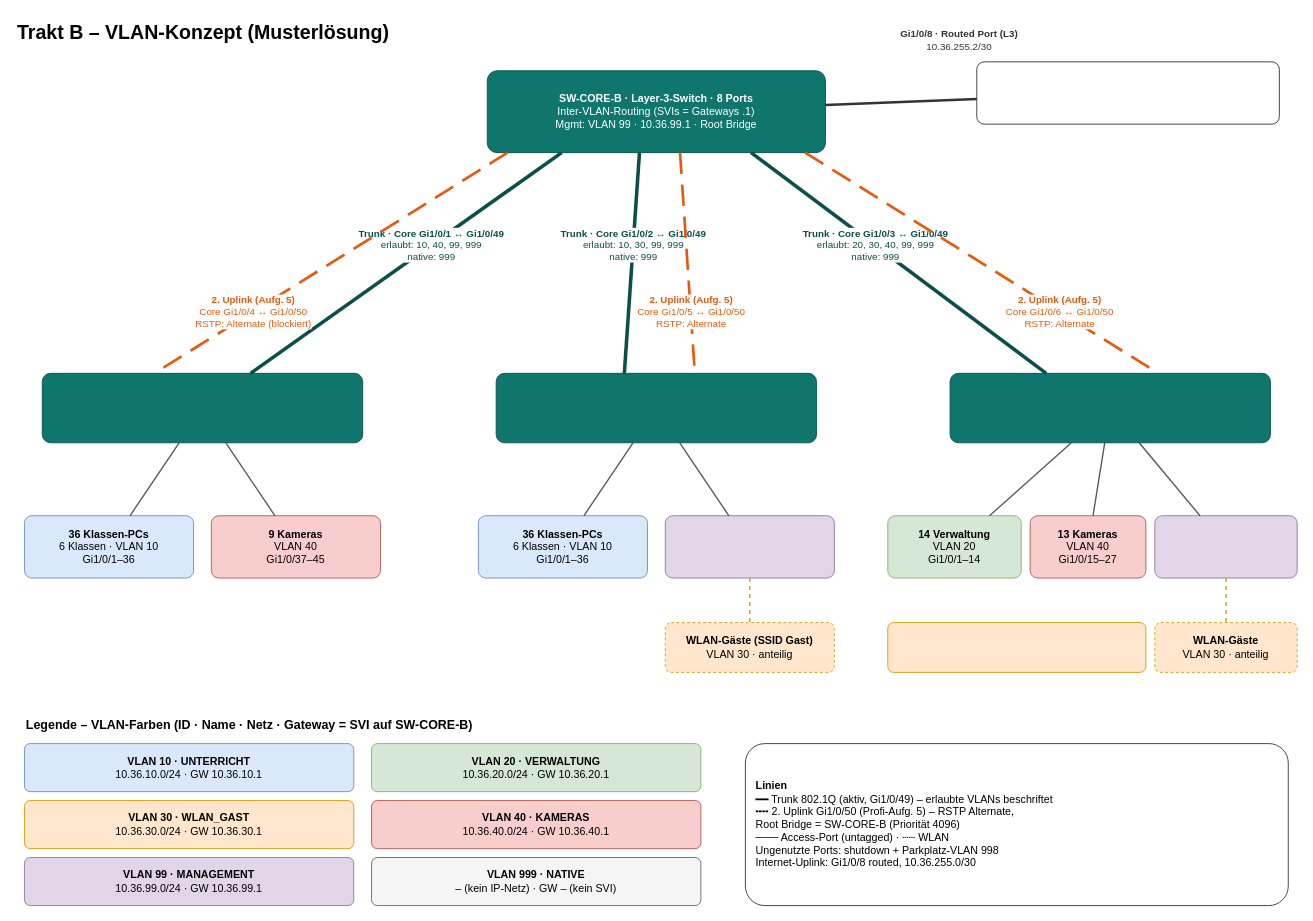
Image size: 1313x921. Some labels were removed from this diagram. Each missing label, with the centre of its shape:
"2 Accesspoints Mgmt VLAN 99 (tagged) Gi1/0/37–38 · Trunk" goes at [749,546].
"4 Accesspoints Mgmt VLAN 99 (tagged) Gi1/0/28–31 · Trunk" goes at [1225,546].
"Schulnetz / Internetrouter 10.36.255.1/30 (Transfernetz)" goes at [1127,92].
"SW-E0-A · Erdgeschoss 48 Access + 2 Uplinks Mgmt: VLAN 99 · 10.36.99.13" goes at [1109,407].
"SW-E1-A · 1. Stock 48 Access + 2 Uplinks Mgmt: VLAN 99 · 10.36.99.11" goes at [202,407].
"SW-E1-B · 1. Stock 48 Access + 2 Uplinks Mgmt: VLAN 99 · 10.36.99.12" goes at [656,407].
"WLAN-Gast gesamt: bis 180 Geräte über alle 6 APs (2 + 4)" goes at [1016,647].
